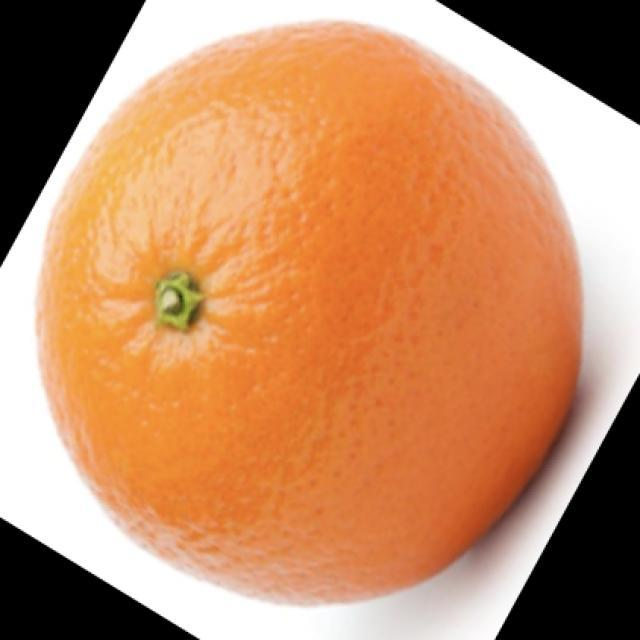Orange: (34, 18, 584, 607)
